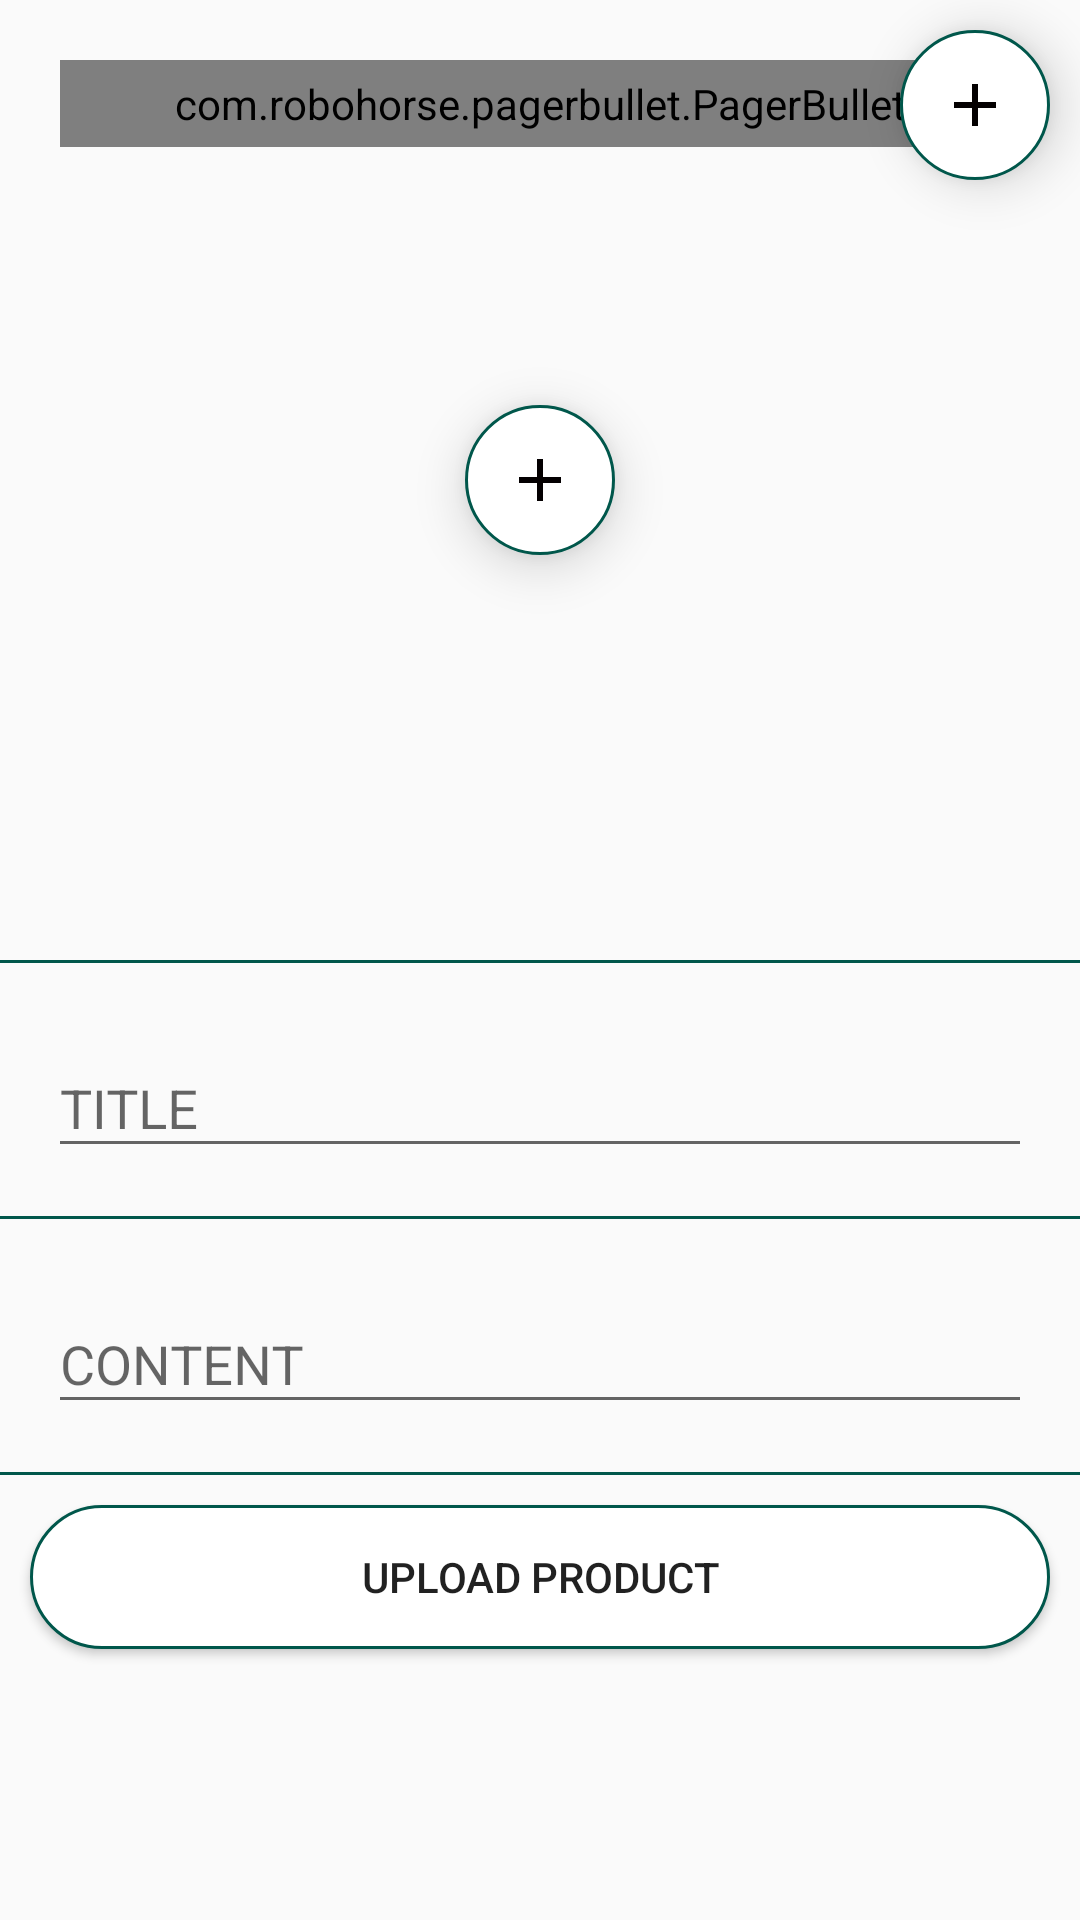

Where icons sit on this 1080px×1920px app screen, as {"left": x1, "top": y1, "right": x2, "bottom": y2}:
add: {"left": 900, "top": 30, "right": 1050, "bottom": 180}, {"left": 465, "top": 405, "right": 615, "bottom": 555}
